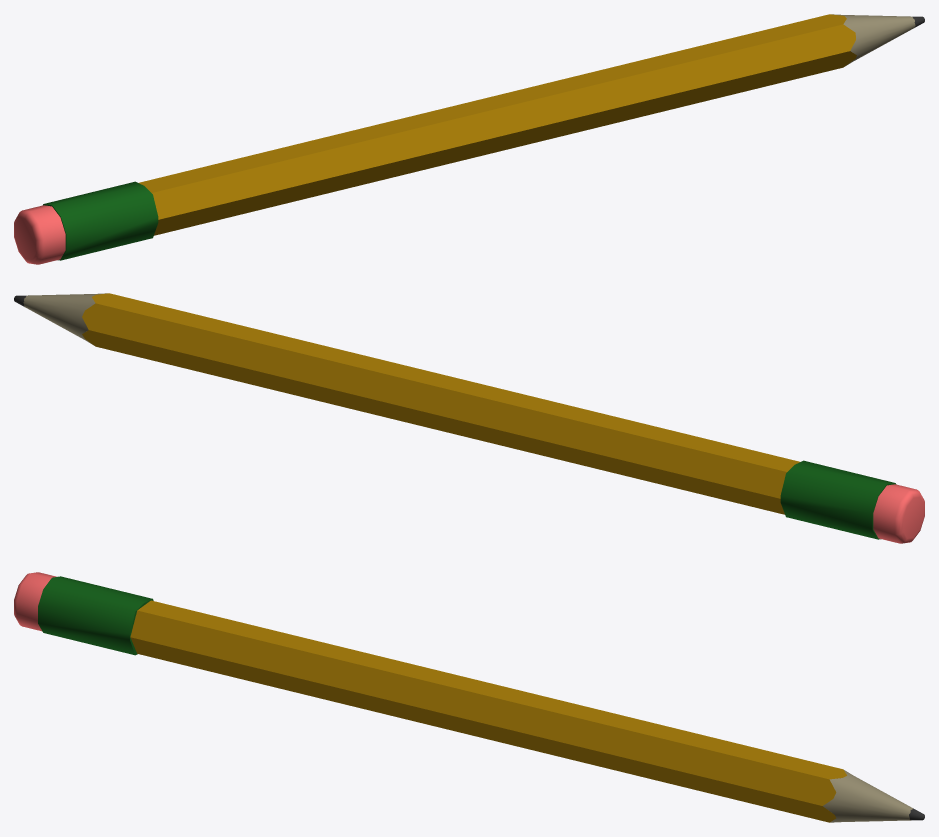
The model's file is Pencil.glb.
3 renders of one model, top to bottom at view 1: azimuth 30°, elevation 25°; view 2: azimuth 150°, elevation 25°; view 3: azimuth 330°, elevation 25°, orthographic.
Parts seen in each view (by area): view 1: Pencil; view 2: Pencil; view 3: Pencil.
Part boxes in pixels (x1,y1,x2,y2): Pencil: (14, 14, 924, 264); Pencil: (14, 293, 924, 543); Pencil: (14, 572, 924, 822).
Bounding box in the file's own units: 17.41 × 0.9996 × 0.9506.
